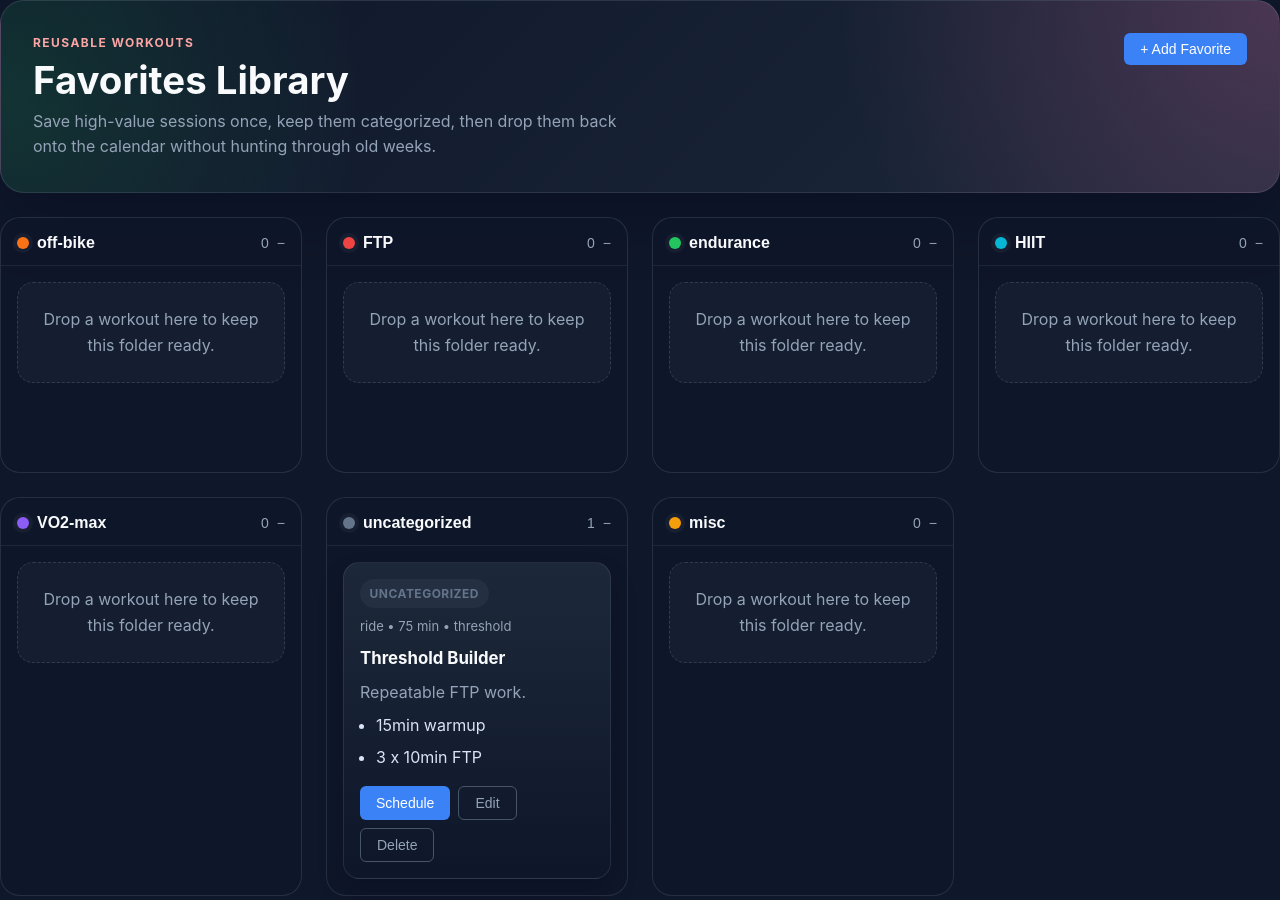
Test: FavoritesPage › schedules a favorite workout from the library
Click the button "Schedule".
click(405, 803)  # box top-left (360, 786), bottom-right (450, 820)
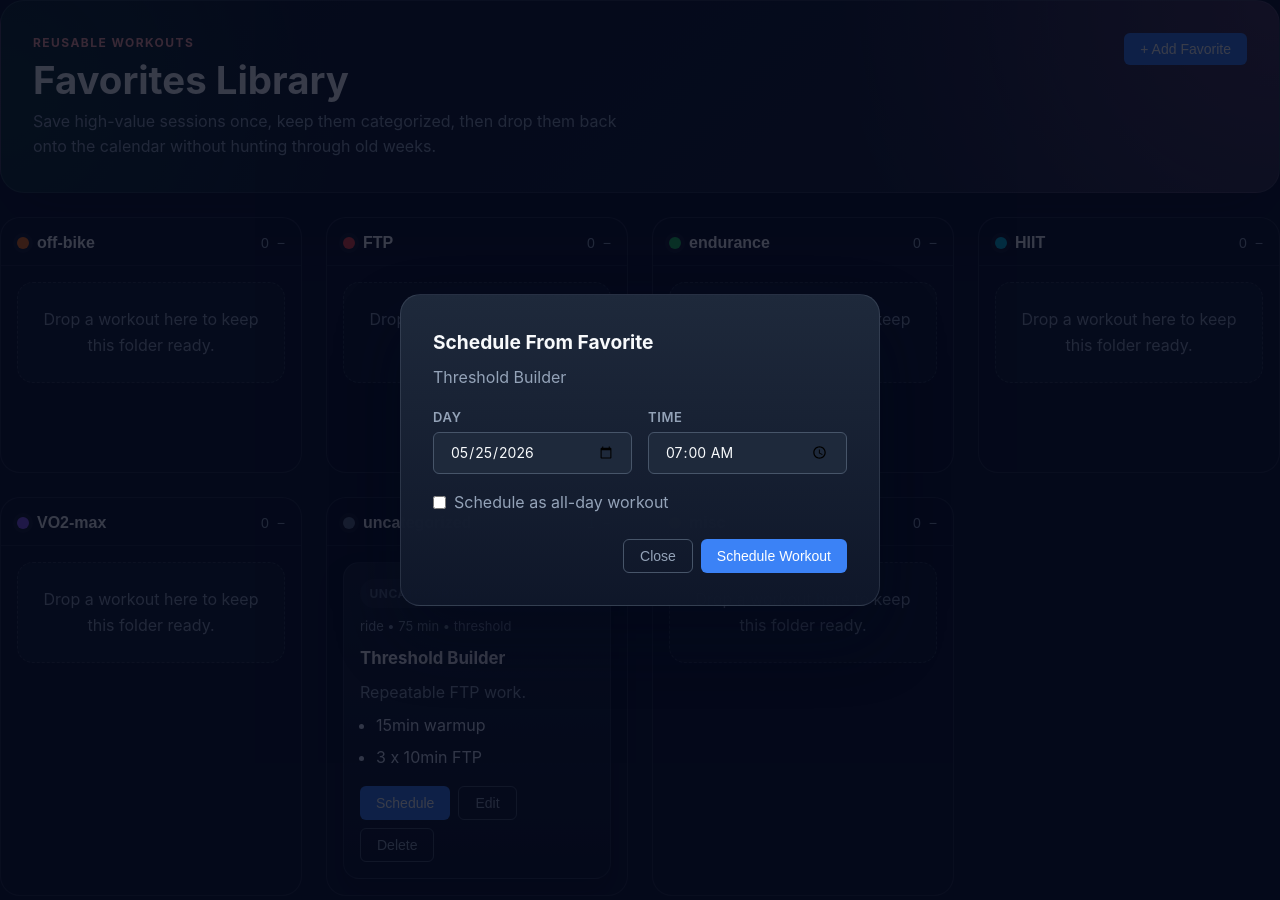
Type "2026-05-08" into the date field labelled "Day".
click(532, 453); type("2026-05-08")  # box top-left (433, 432), bottom-right (632, 474)
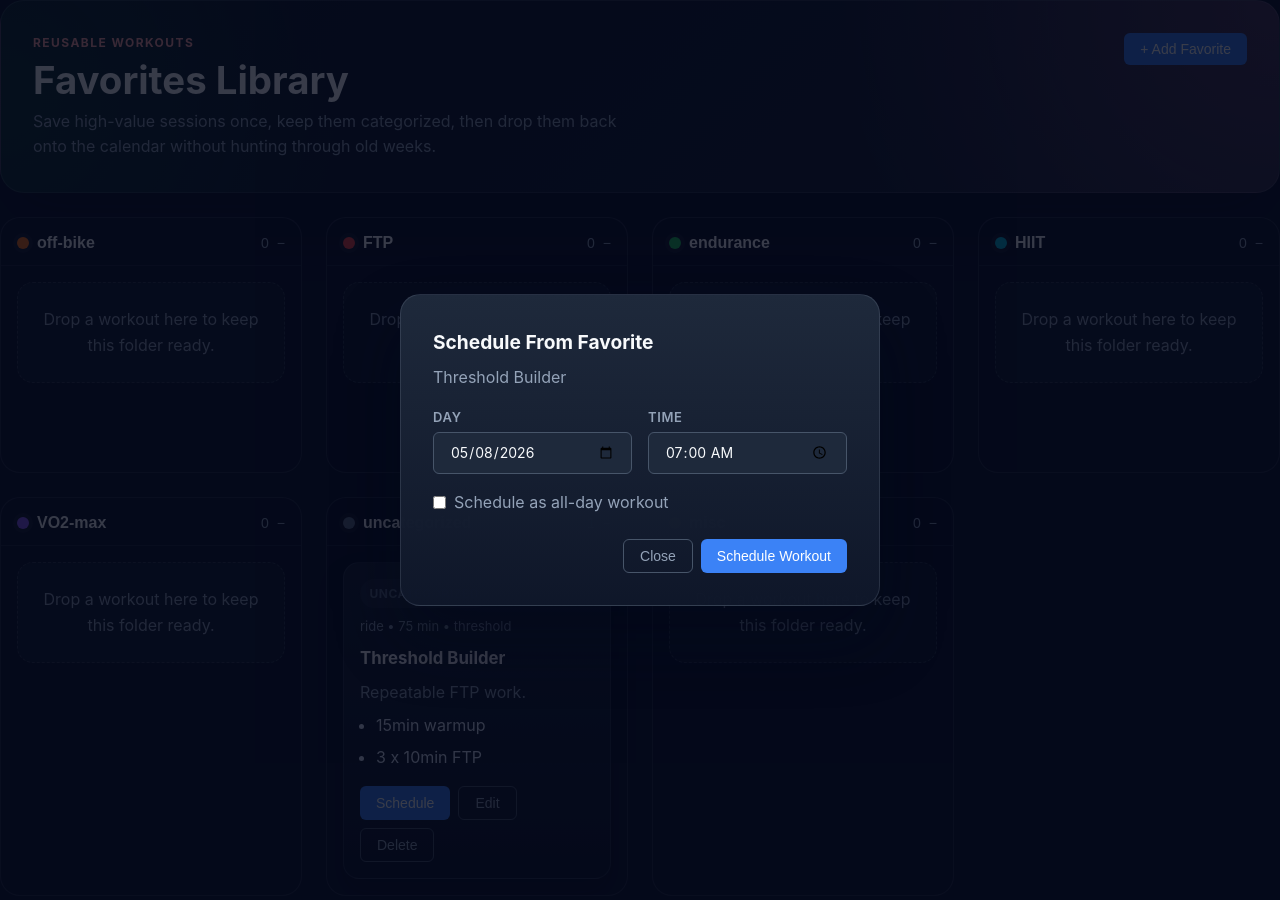
Replace the text in the time field labelled "Time" with "06:45" at (748, 453), box top-left (648, 432), bottom-right (847, 474)
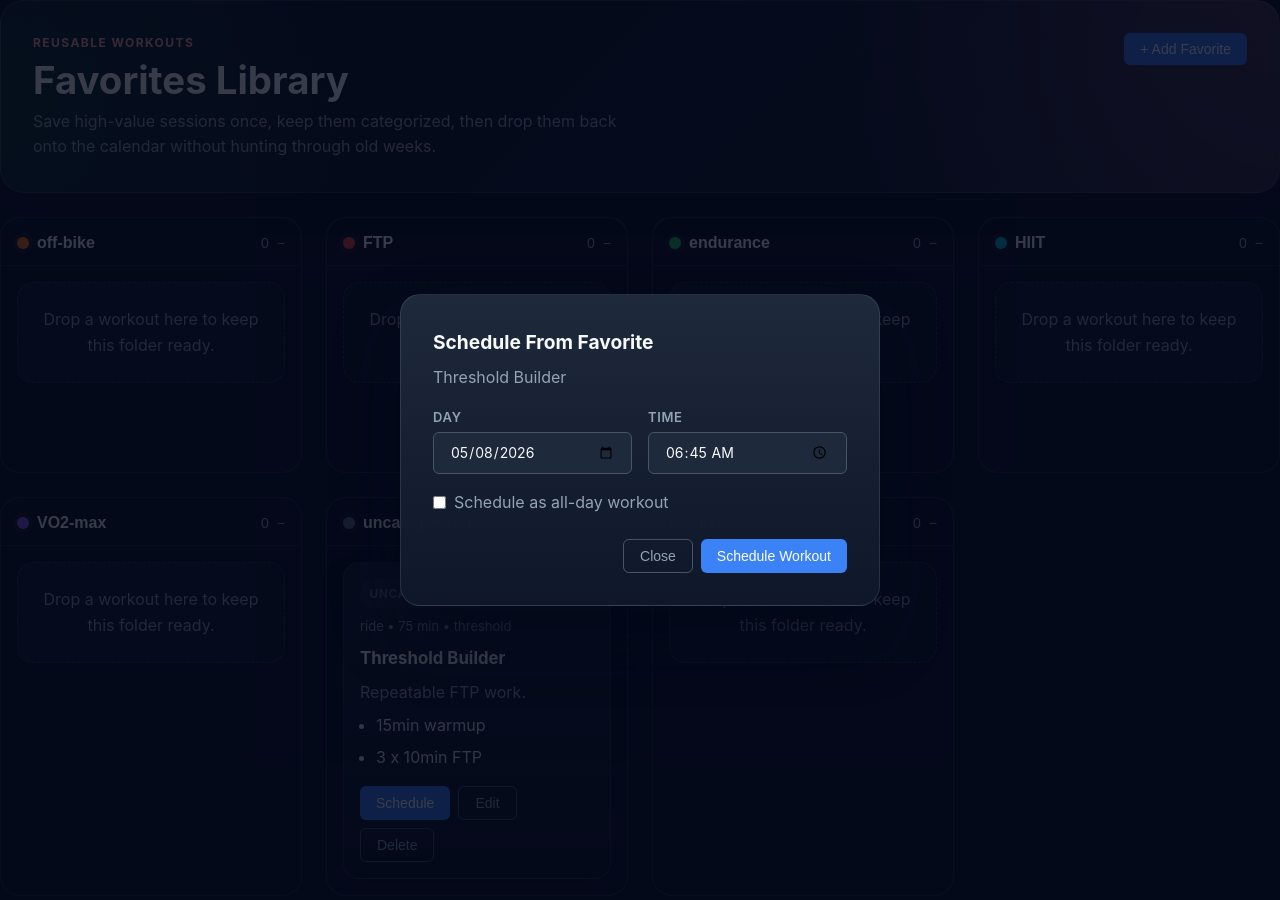
Click the button "Schedule Workout".
click(774, 556)  # box top-left (701, 539), bottom-right (847, 573)
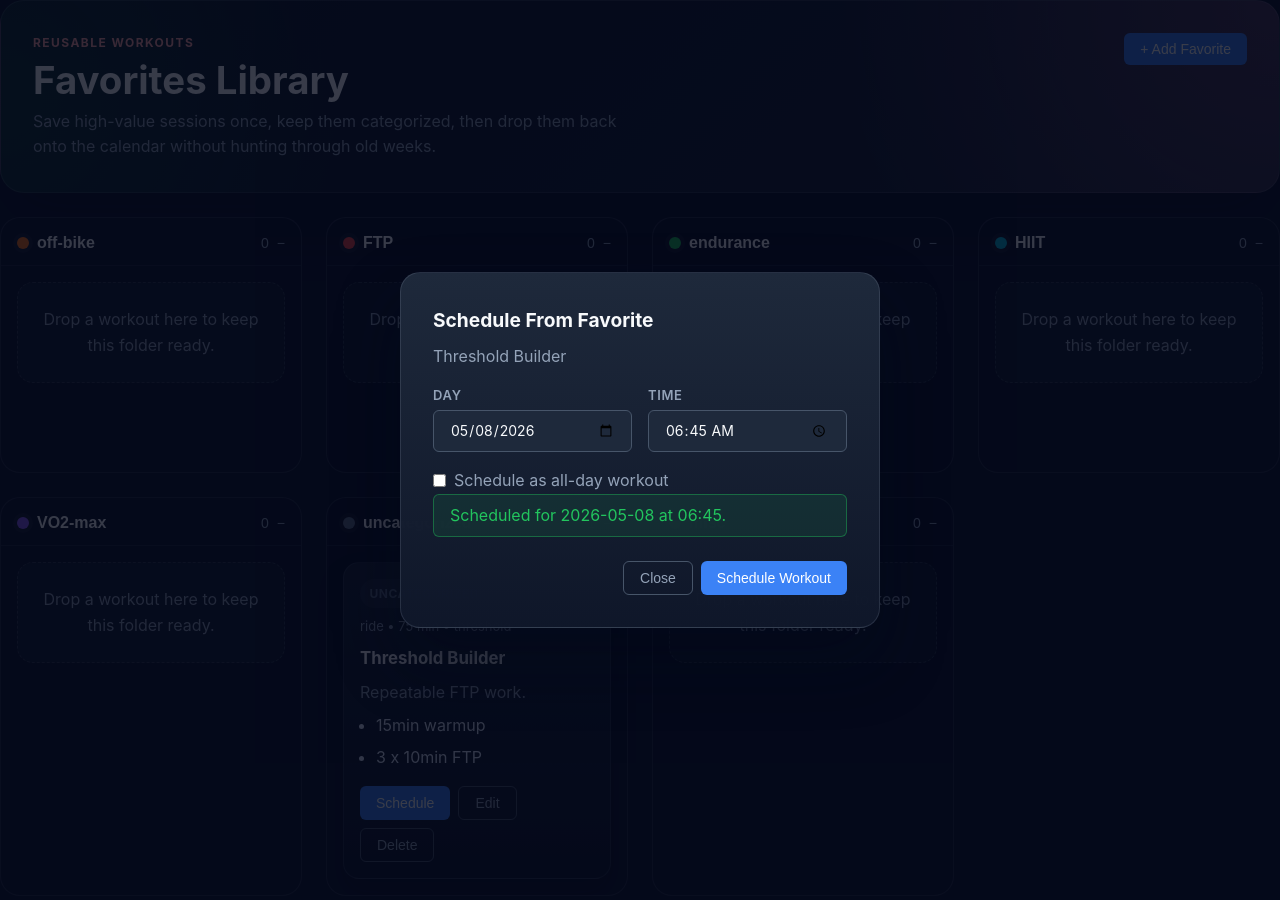
Check: the text "Scheduled for 2026-05-08 at 06:45." is shown, box top-left (433, 494), bottom-right (847, 537)
